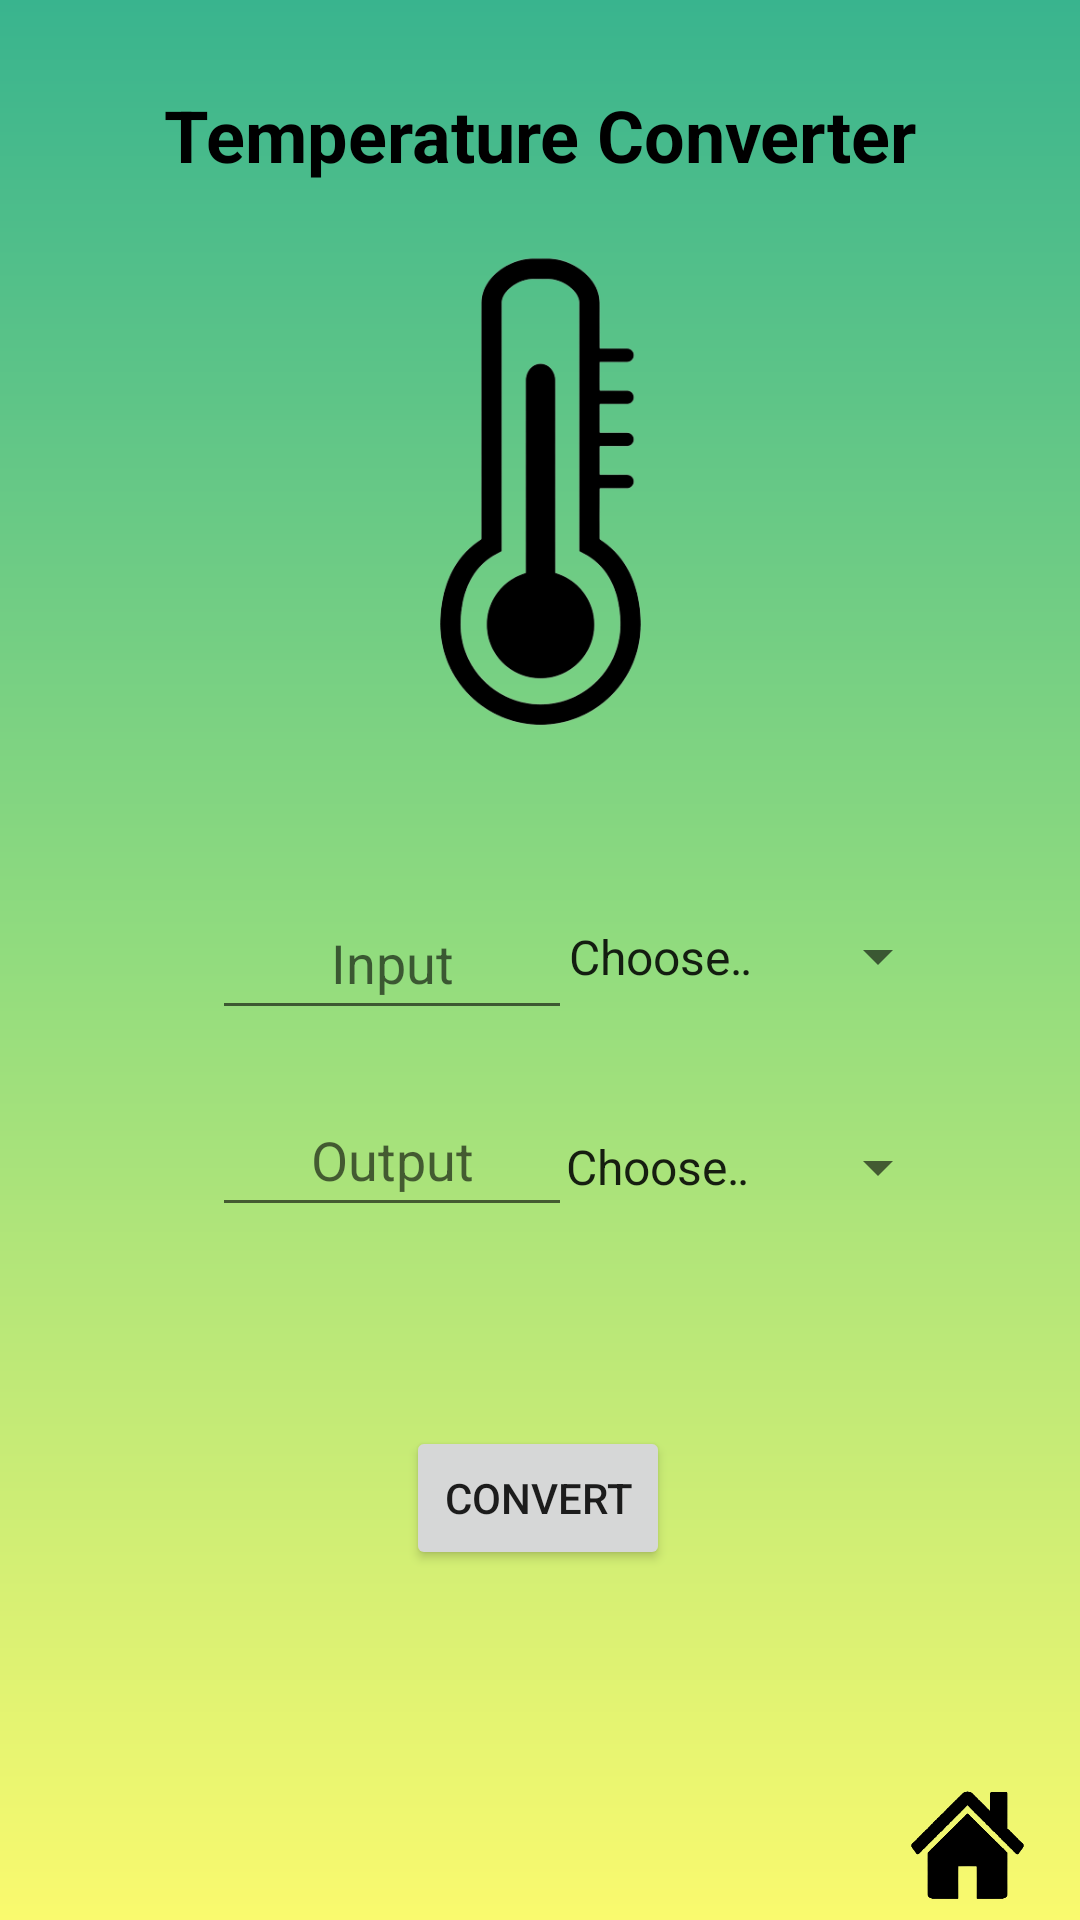

Icons on this 1080*1920 Android screen, each with its box as region(x1, y1, x2, y2):
homeicon: region(911, 1791, 1024, 1899)
